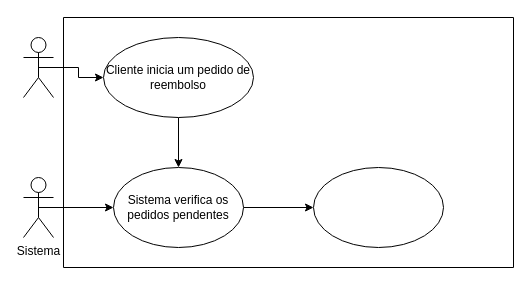
Some shapes in this 531 by 285 pixel diagram are drawn without their labels. Here are the shapes that lost their labels. From the top down, the centre of each, then its label:
At point 38,67: "Cliente".
At point 378,207: "Sistema remove e processa um pedido da fila".
